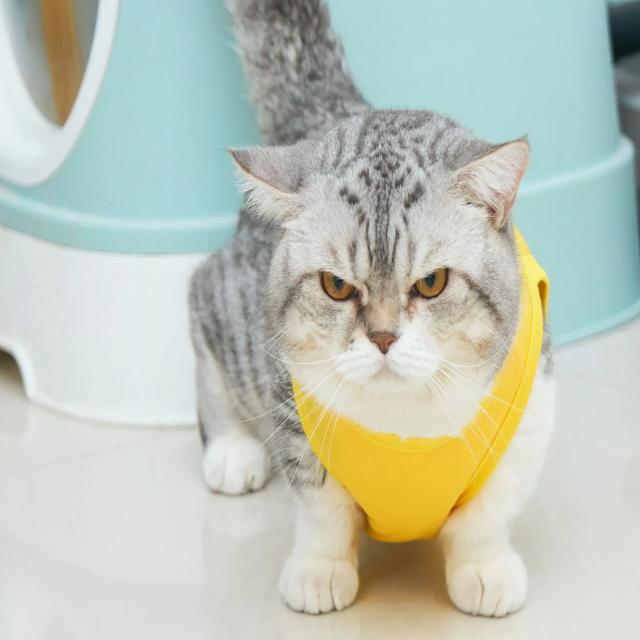Munchkin: (182, 0, 563, 626)
